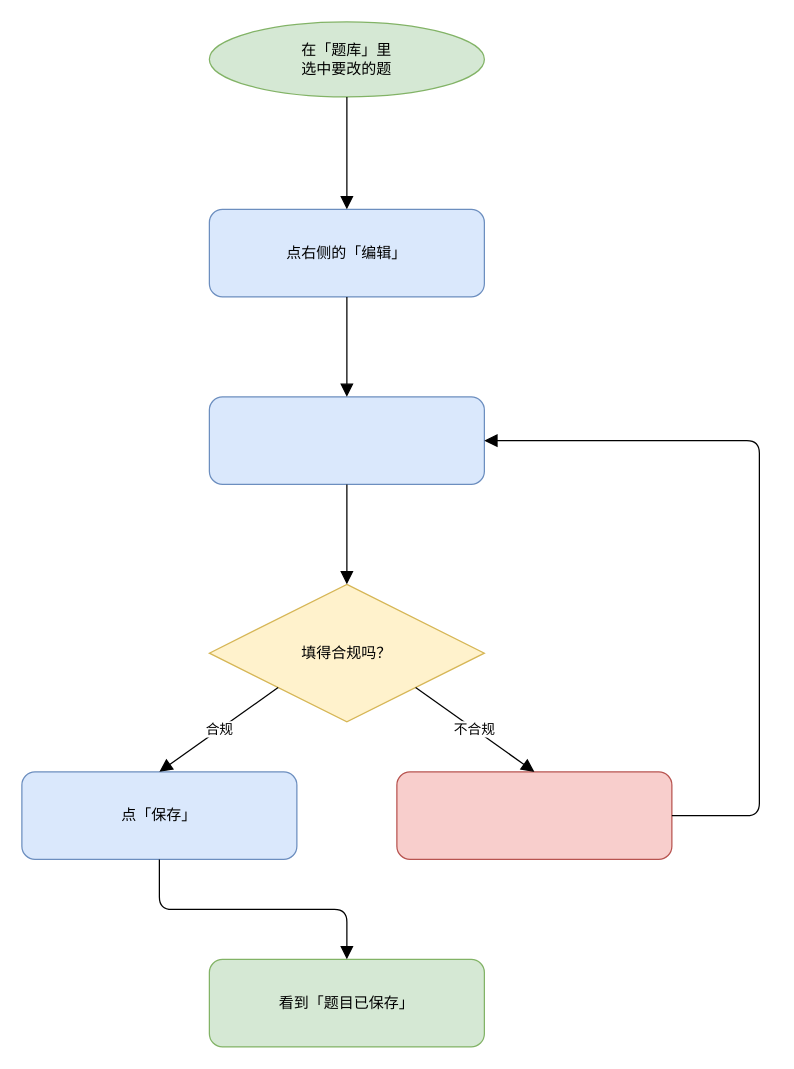
Image size: 794x1069. Some labels were removed from this diagram. The shapes that lost their labels are listed below. From the top down, each one's centre as x and y in pixels, then its label:
At (346,440): "改「题干」「选项」 「参考答案」「解析」等".
At (534,815): "看到「选项不能为空」 或「单选题必须提供参考答案」".
